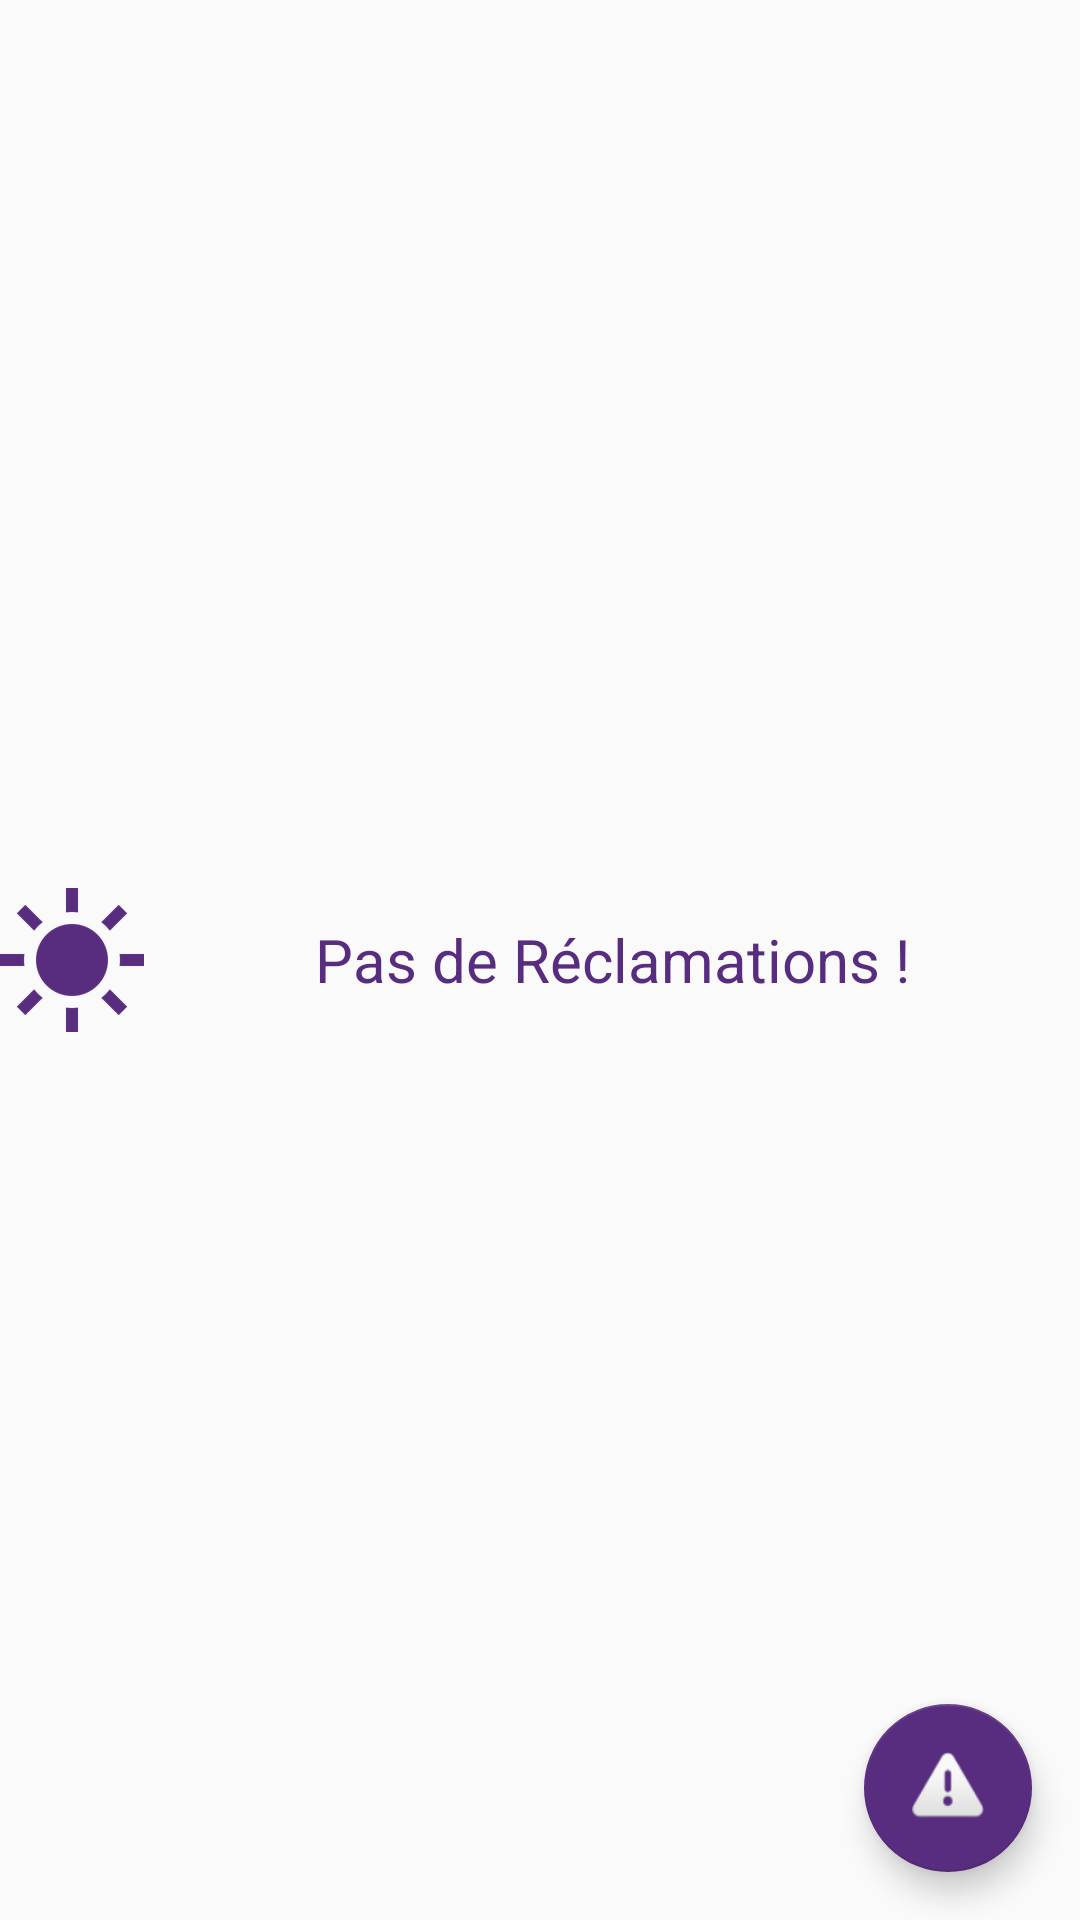

Screen size 1080px×1920px. Icon name, then its center in pixels as (x=x, y=y):
alert: (x=948, y=1788)
